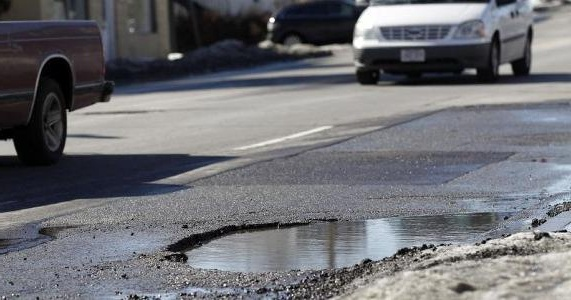pothole: (161, 209, 518, 271), (36, 222, 77, 237)
